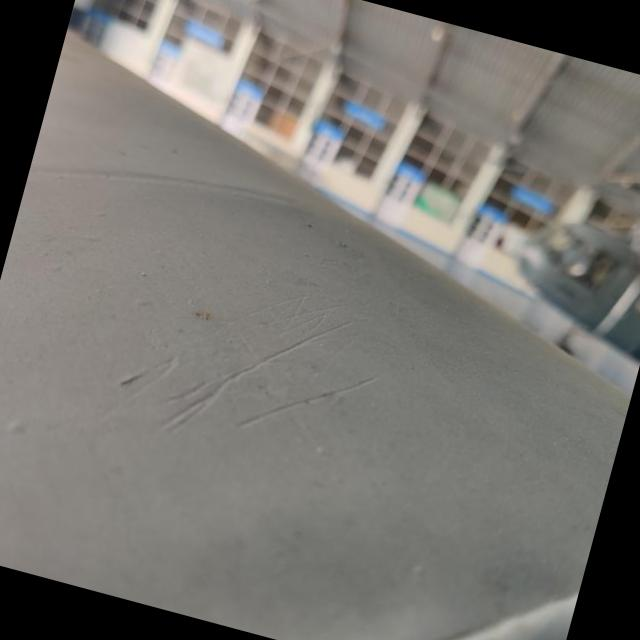Scratch: (119, 322, 390, 442)
